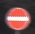No entry: (5, 6, 30, 29)
